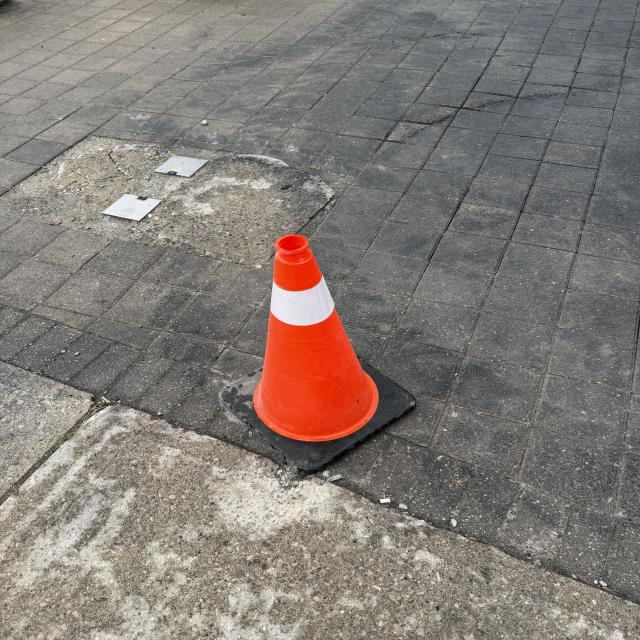Traffic Cone: (220, 232, 418, 472)
